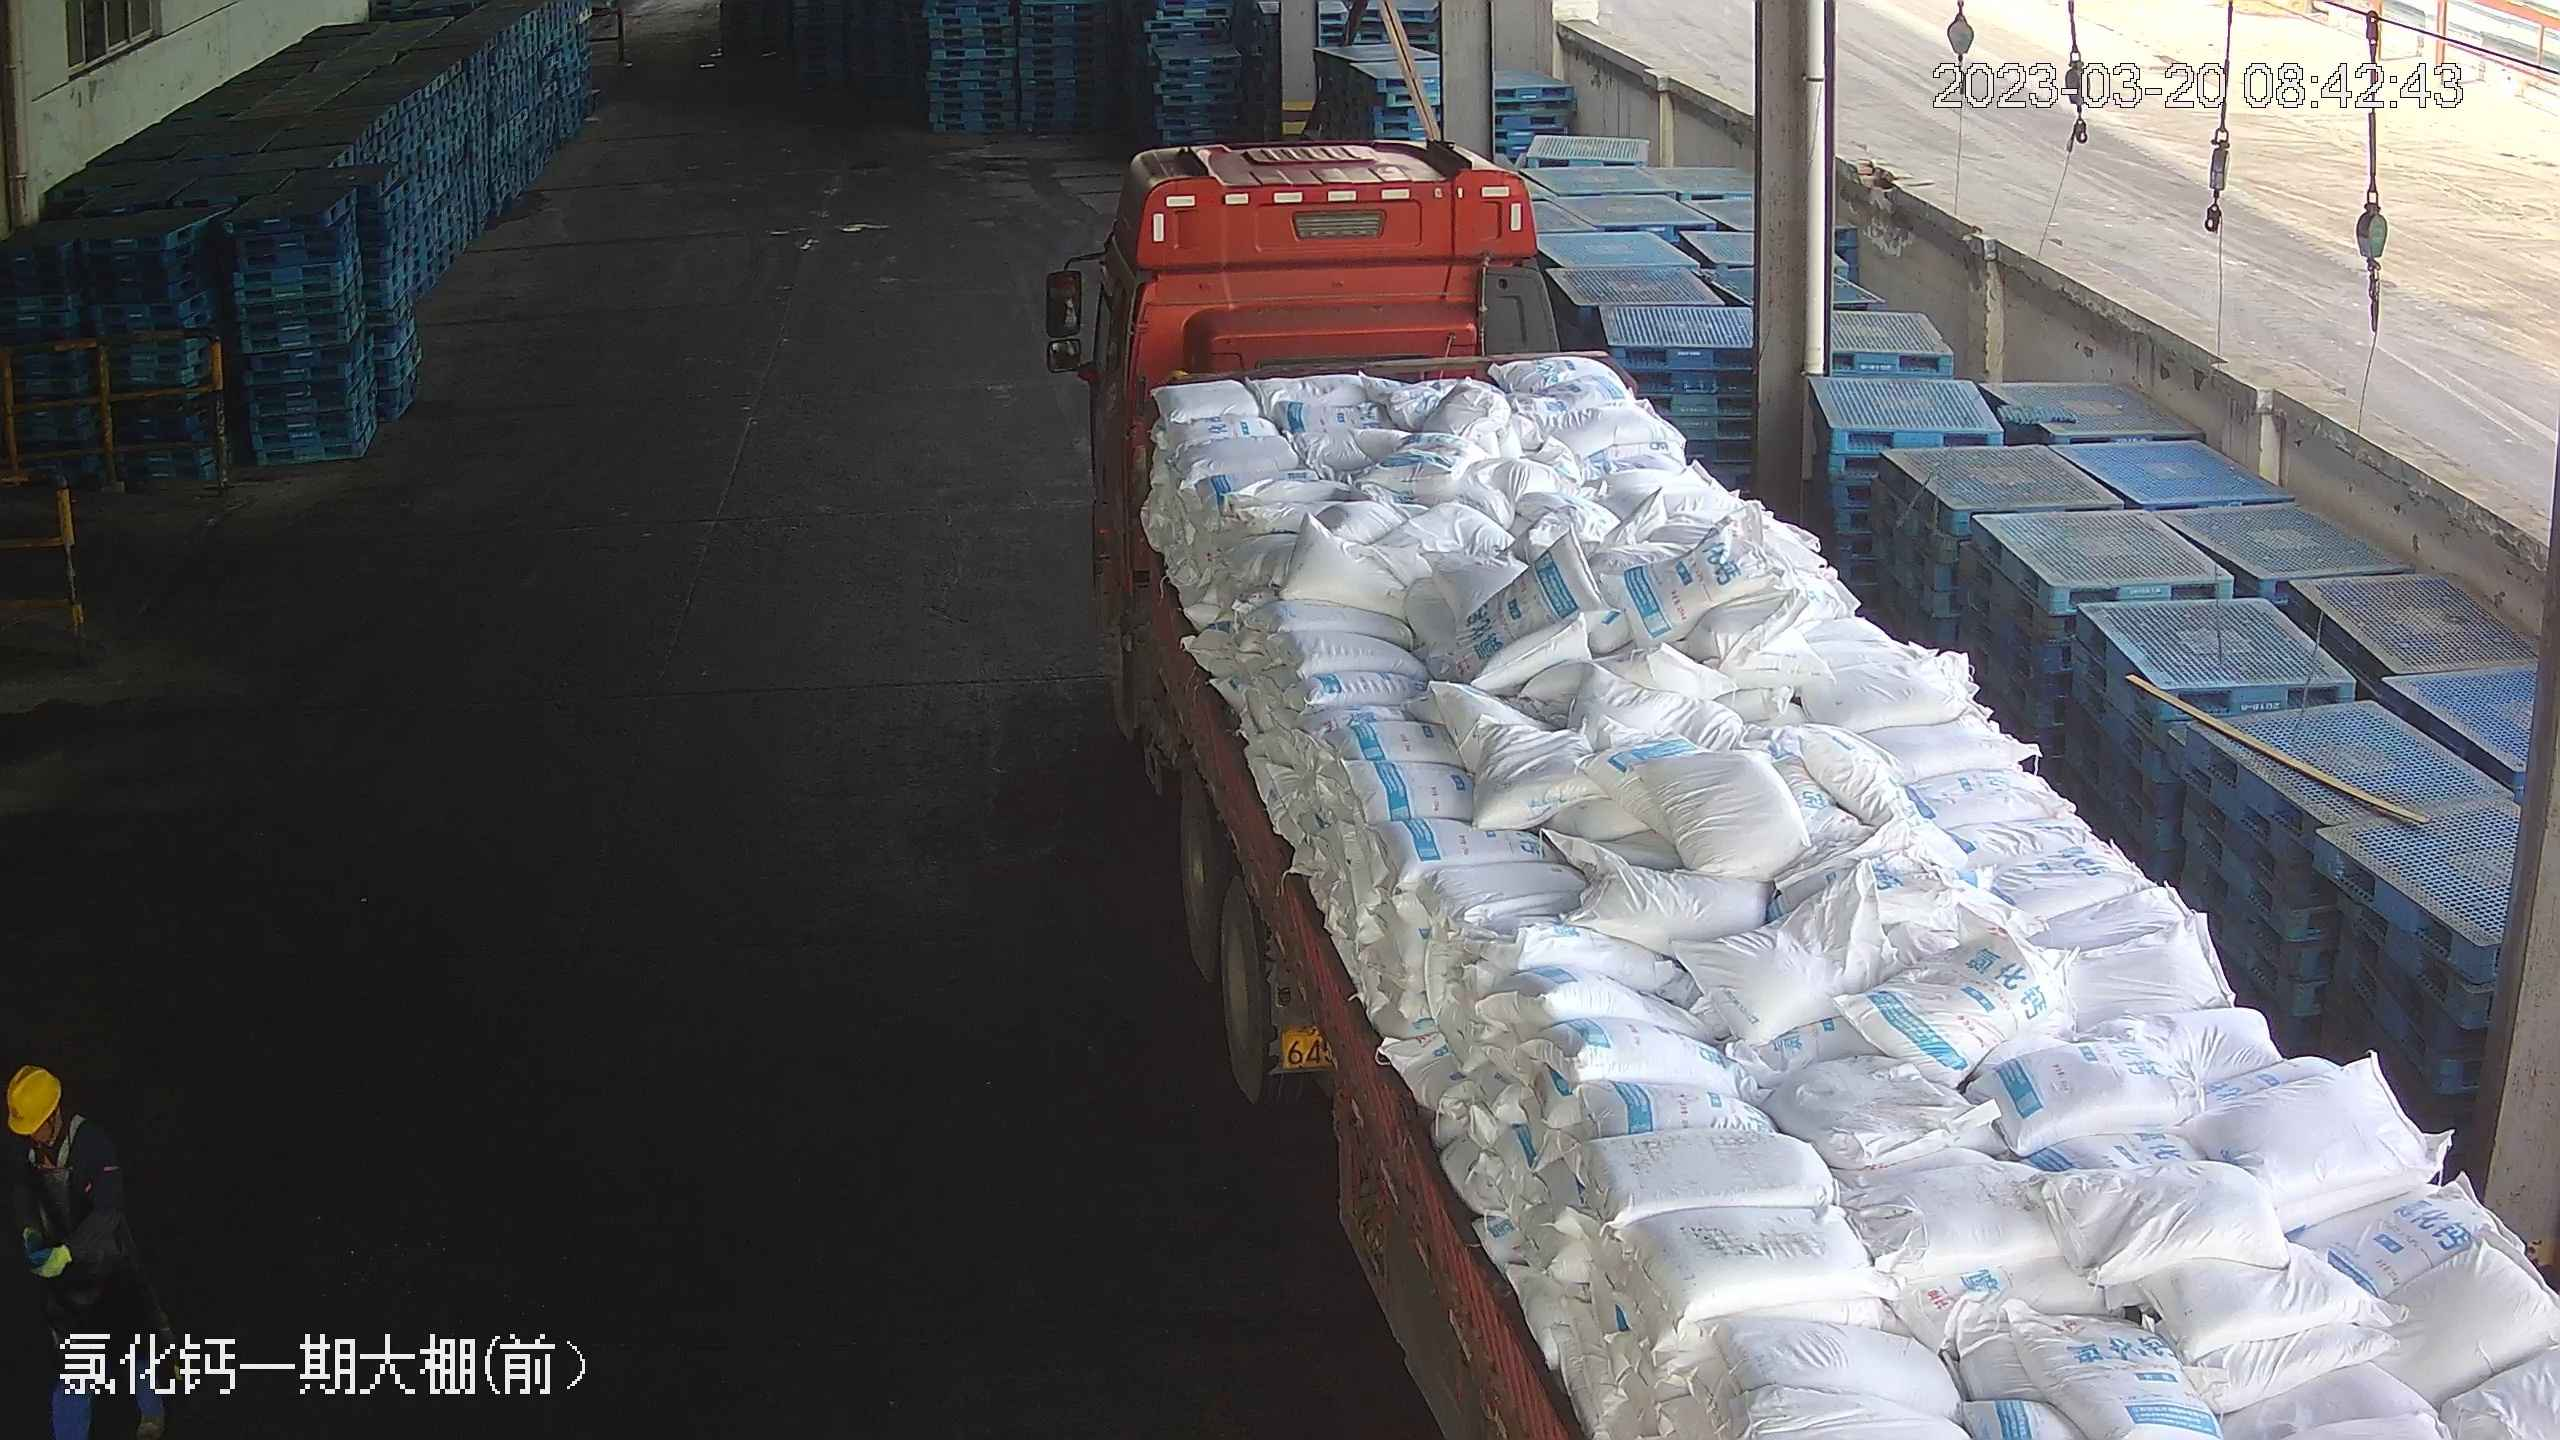belt: (23, 1117, 90, 1171)
head: (1, 1060, 125, 1221)
helmet: (4, 1065, 62, 1133)
people: (1, 1056, 141, 1432)
truck: (1045, 133, 2495, 1440)
